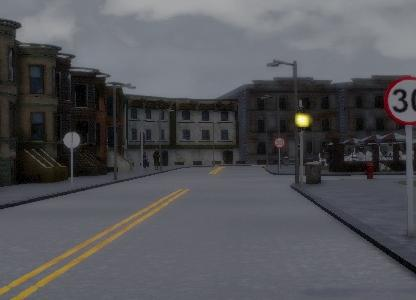Speed_30: (382, 75, 416, 126)
